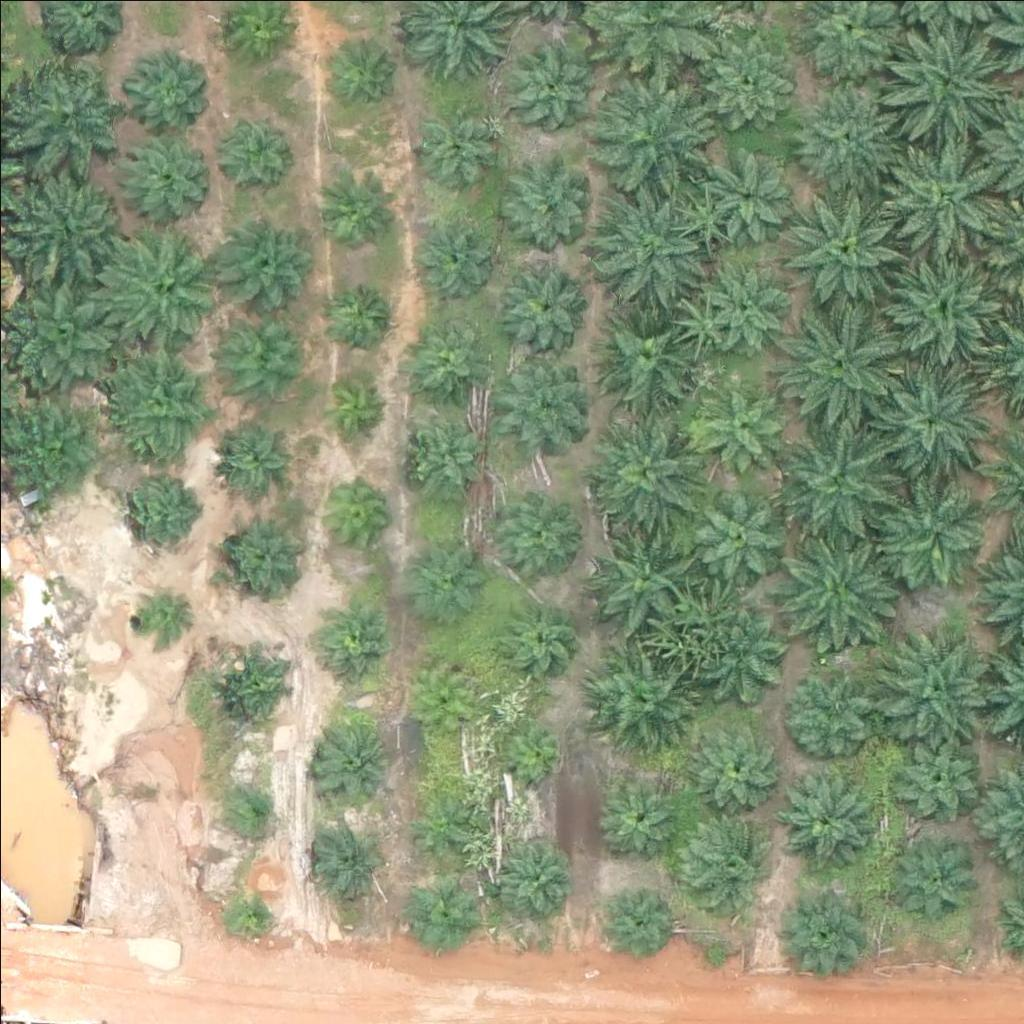Kelapa_Sawit: (98, 228, 223, 354), (768, 412, 893, 538), (776, 300, 901, 426), (777, 186, 902, 312), (885, 26, 1010, 152), (885, 142, 1010, 268), (884, 247, 1009, 373), (868, 359, 993, 485), (867, 632, 992, 758), (1, 56, 126, 182), (772, 518, 897, 643), (6, 264, 131, 389), (585, 409, 698, 522), (600, 75, 713, 188), (788, 71, 901, 184), (594, 189, 706, 303), (104, 341, 216, 454), (109, 128, 209, 229), (589, 522, 689, 623), (598, 310, 698, 411), (217, 298, 317, 398), (595, 646, 695, 746), (702, 32, 802, 132), (880, 484, 980, 584), (673, 810, 773, 910), (778, 777, 878, 877), (215, 505, 303, 593), (123, 47, 211, 135), (403, 312, 491, 400), (406, 95, 494, 183), (497, 355, 585, 443), (500, 266, 588, 354), (503, 38, 591, 126), (700, 143, 788, 231), (690, 488, 778, 576), (784, 672, 872, 760), (776, 888, 864, 976), (895, 732, 983, 820), (492, 485, 579, 574), (688, 721, 775, 810), (212, 408, 299, 496), (221, 220, 308, 308), (405, 404, 492, 492), (413, 210, 500, 298), (507, 155, 594, 243), (704, 267, 791, 355), (699, 382, 786, 470), (700, 615, 787, 703), (489, 833, 576, 921), (594, 776, 681, 864), (897, 832, 984, 920), (311, 823, 386, 899), (601, 878, 676, 954), (220, 642, 295, 718), (317, 167, 392, 243), (322, 278, 397, 354), (316, 366, 391, 442), (118, 479, 193, 555), (311, 726, 386, 802), (503, 600, 578, 675), (406, 536, 481, 611), (319, 609, 394, 684), (313, 476, 388, 551), (320, 32, 395, 107), (211, 112, 286, 187), (410, 886, 473, 949), (414, 664, 477, 727), (405, 790, 467, 853), (126, 583, 188, 646), (506, 725, 568, 787), (226, 888, 276, 938), (230, 781, 280, 831)
